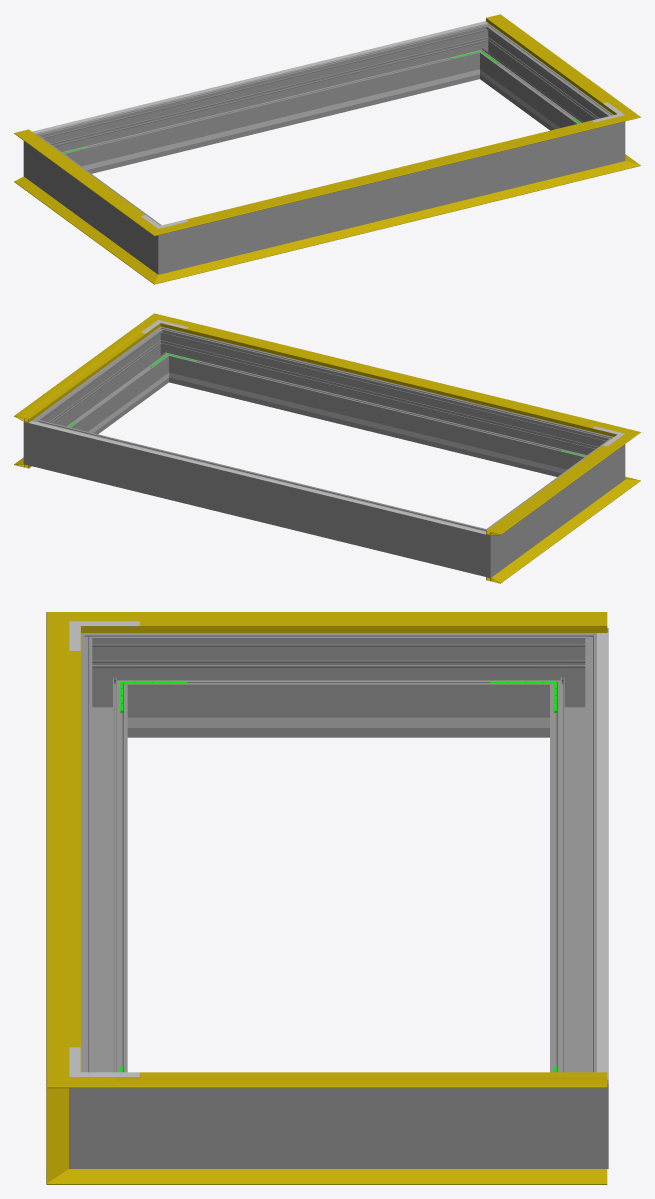
3 renders of one model, top to bottom at view 1: azimuth 30°, elevation 25°; view 2: azimuth 150°, elevation 25°; view 3: azimuth 270°, elevation 25°, orthographic. The views are drawn at different scales.
Parts seen in each view (by area): view 1: 3DGeom-276, 3DGeom-298, 3DGeom-297, 3DGeom-28, 3DGeom-268, 3DGeom-141, 3DGeom-244, 3DGeom-270, 3DGeom-145, 3DGeom-38, 3DGeom-220, 3DGeom-158 (+7 smaller); view 2: 3DGeom-298, 3DGeom-276, 3DGeom-297, 3DGeom-141, 3DGeom-268, 3DGeom-278, 3DGeom-239, 3DGeom-145, 3DGeom-38, 3DGeom-220, 3DGeom-284, 3DGeom-147 (+6 smaller); view 3: 3DGeom-268, 3DGeom-297, 3DGeom-276, 3DGeom-298, 3DGeom-141, 3DGeom-147, 3DGeom-30, 3DGeom-284, 3DGeom-290, 3DGeom-145, 3DGeom-220, 3DGeom-158 (+9 smaller).
Part boxes in pixels (x1,y1,x2,y2): 3DGeom-276: (57,29,474,173); 3DGeom-298: (188,129,594,267); 3DGeom-297: (483,34,602,130); 3DGeom-28: (179,166,610,276); 3DGeom-268: (41,144,150,261); 3DGeom-141: (179,120,610,228); 3DGeom-244: (93,76,450,168); 3DGeom-270: (140,217,188,274); 3DGeom-145: (486,14,622,110); 3DGeom-38: (14,176,145,271); 3DGeom-220: (32,21,487,133); 3DGeom-158: (186,120,594,221); 3DGeom-298: (174,332,591,476); 3DGeom-276: (54,425,465,570); 3DGeom-297: (46,337,165,434); 3DGeom-141: (176,320,609,433); 3DGeom-268: (498,447,607,564); 3DGeom-278: (460,520,508,577); 3DGeom-239: (198,379,555,471); 3DGeom-145: (14,326,151,422); 3DGeom-38: (486,488,623,583); 3DGeom-220: (28,421,485,534); 3DGeom-284: (23,410,59,471); 3DGeom-147: (486,442,623,535); 3DGeom-268: (139,633,538,737); 3DGeom-297: (139,1088,538,1168); 3DGeom-276: (550,657,608,1072); 3DGeom-298: (81,657,127,1072); 3DGeom-141: (46,641,80,1057); 3DGeom-147: (116,612,607,632); 3DGeom-30: (116,1169,607,1184); 3DGeom-284: (538,1054,608,1168); 3DGeom-290: (69,1054,139,1168); 3DGeom-145: (116,1077,607,1088); 3DGeom-220: (597,632,608,1079); 3DGeom-158: (69,651,80,1047).
Bounding box in the file's own units: 2.44 × 0.2357 × 1.22.
